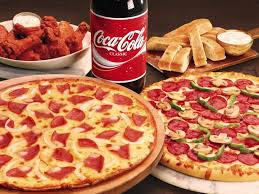coke: (88, 1, 147, 87)
